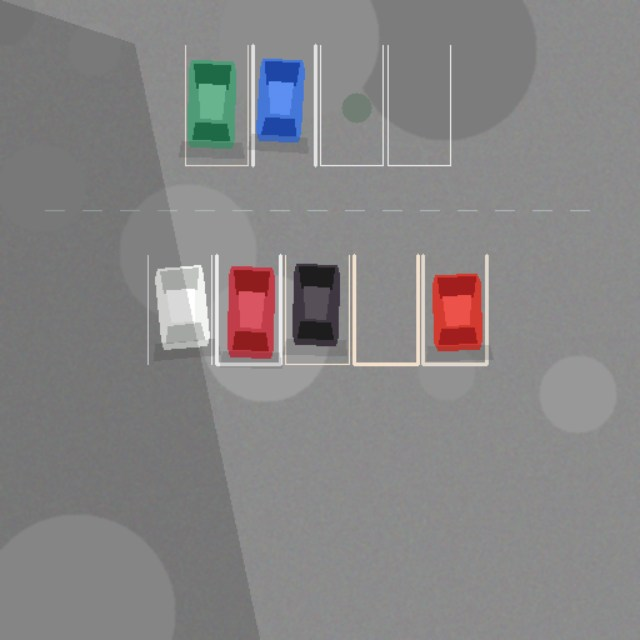space-empty: (320, 45, 382, 165), (388, 45, 450, 165), (354, 255, 417, 364)
space-occupied: (185, 45, 248, 165), (252, 45, 315, 165), (147, 255, 211, 364), (216, 255, 280, 364), (285, 255, 349, 364), (423, 255, 486, 364)
